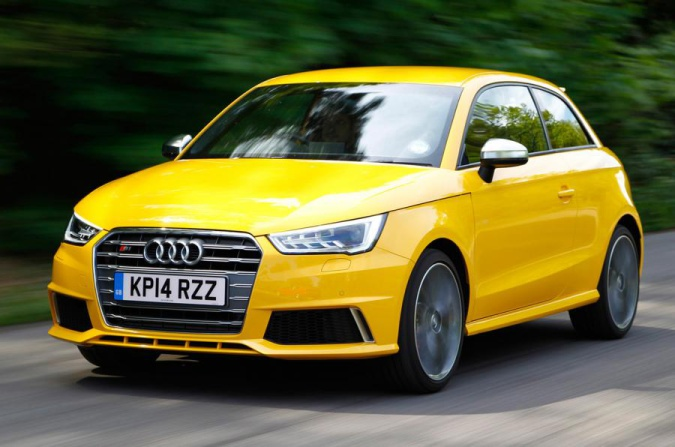audi: (137, 236, 207, 267)
